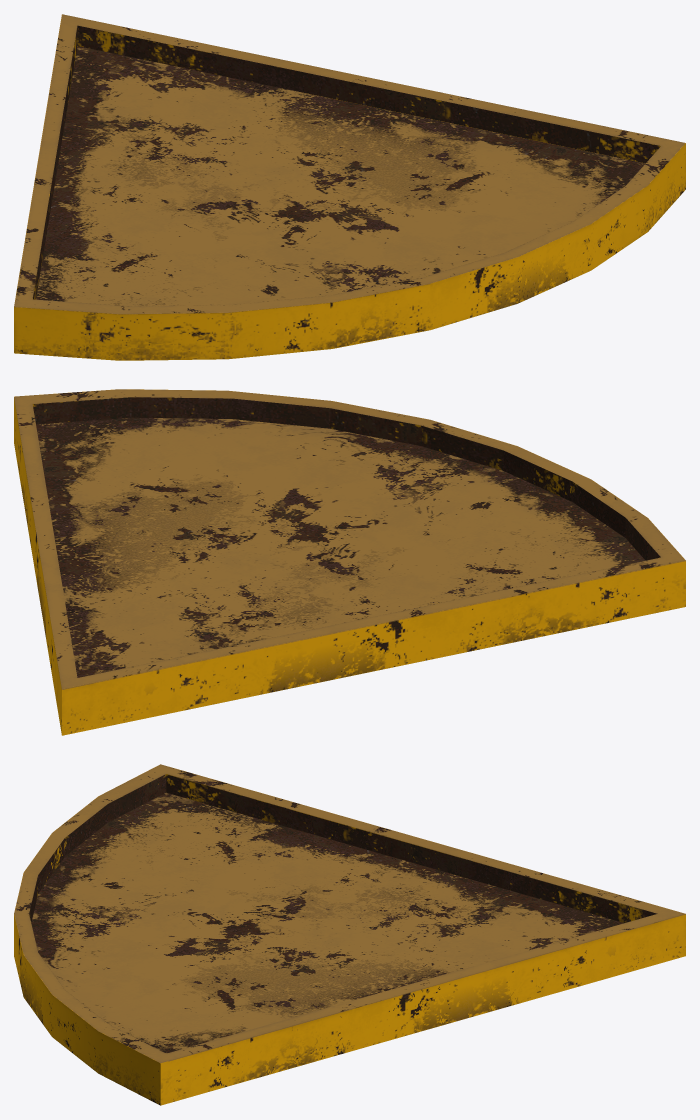
File: newpinballvecbase.fbx
3 renders of one model, top to bottom at view 1: azimuth 30°, elevation 25°; view 2: azimuth 150°, elevation 25°; view 3: azimuth 270°, elevation 25°, orthographic. The views are drawn at different scales.
Parts seen in each view (by area): view 1: newpinballvecbase; view 2: newpinballvecbase; view 3: newpinballvecbase.
Boxes of the visible parts, x1,y1,x2,y2 form: newpinballvecbase: (14, 14, 685, 360); newpinballvecbase: (14, 389, 685, 735); newpinballvecbase: (14, 764, 685, 1105).
Size of the model in its own units: 54.61 by 3.6 by 51.86.
